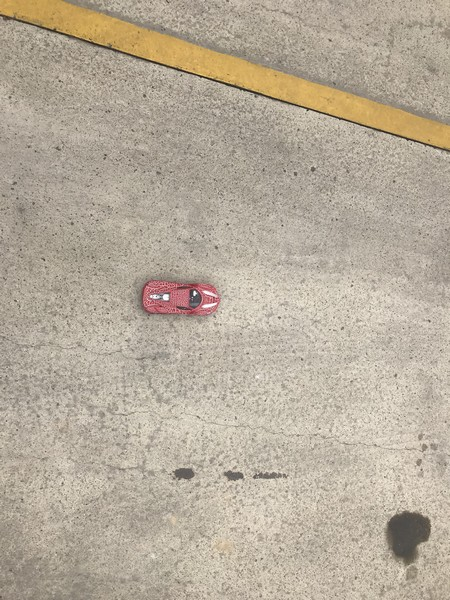RC: (140, 277, 224, 318)
